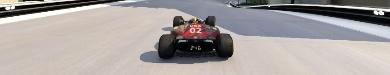Car: (157, 15, 233, 58)
